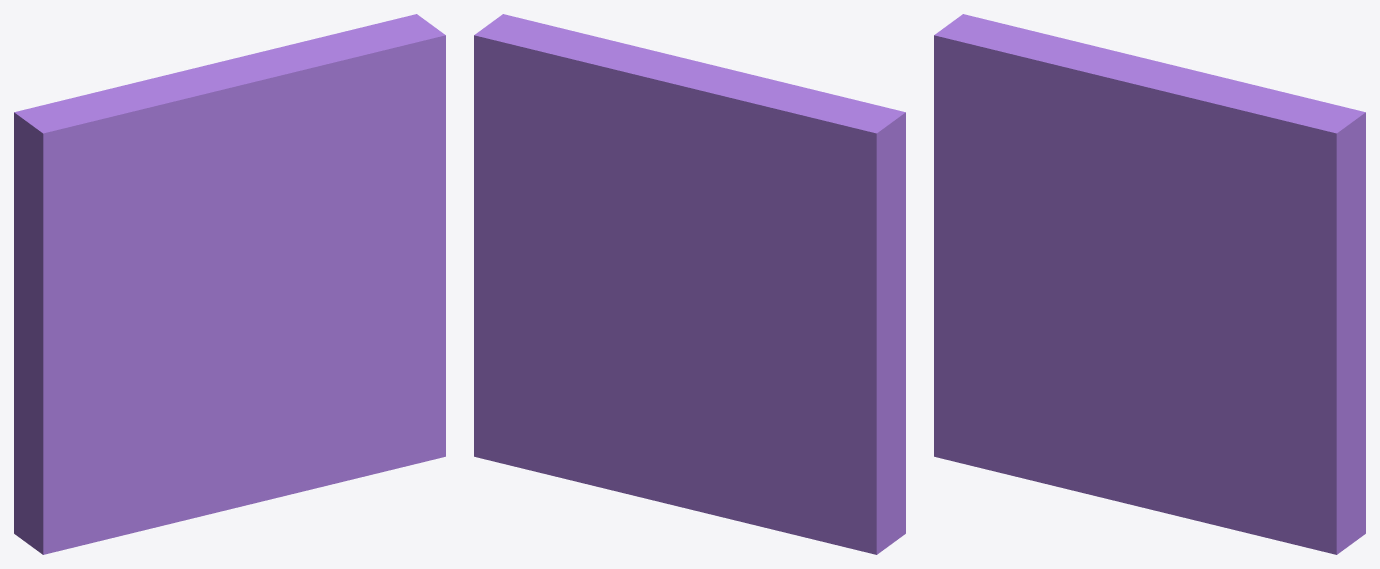
3 renders of one model, left to right at view 1: azimuth 30°, elevation 25°; view 2: azimuth 150°, elevation 25°; view 3: azimuth 330°, elevation 25°, orthographic.
Size of the model in its own units: 8 by 8 by 1.
